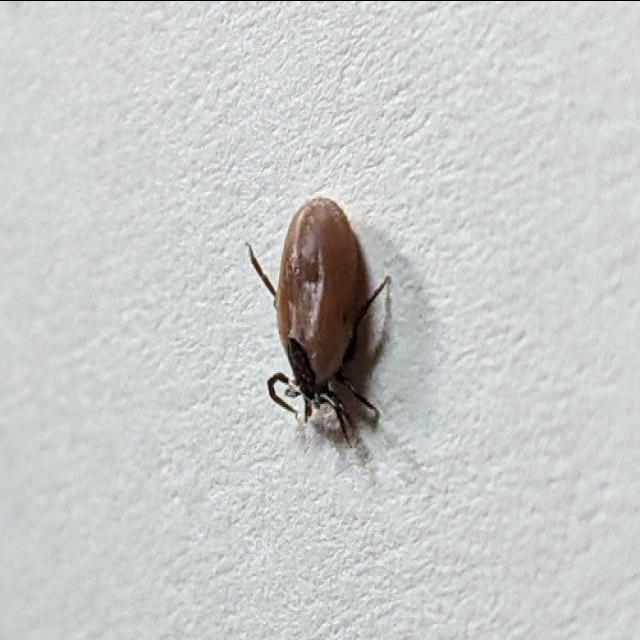Ixodes Ricinus-F-Fed: (250, 195, 392, 454)
